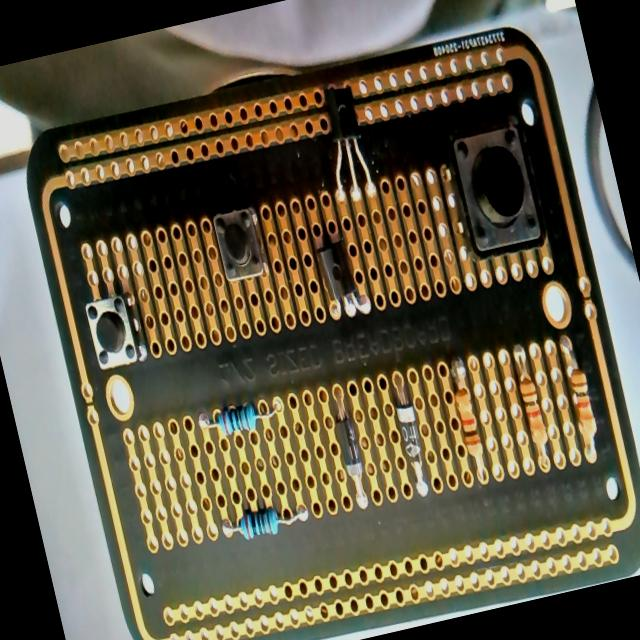diode: (322, 380, 376, 511), (388, 372, 434, 498)
resistor: (553, 334, 608, 463), (445, 360, 497, 484), (510, 342, 552, 462), (220, 496, 312, 547), (195, 394, 284, 442)
switch: (443, 114, 547, 260), (82, 292, 145, 372), (210, 204, 270, 284)
transistor: (307, 79, 387, 211), (307, 229, 379, 332)
